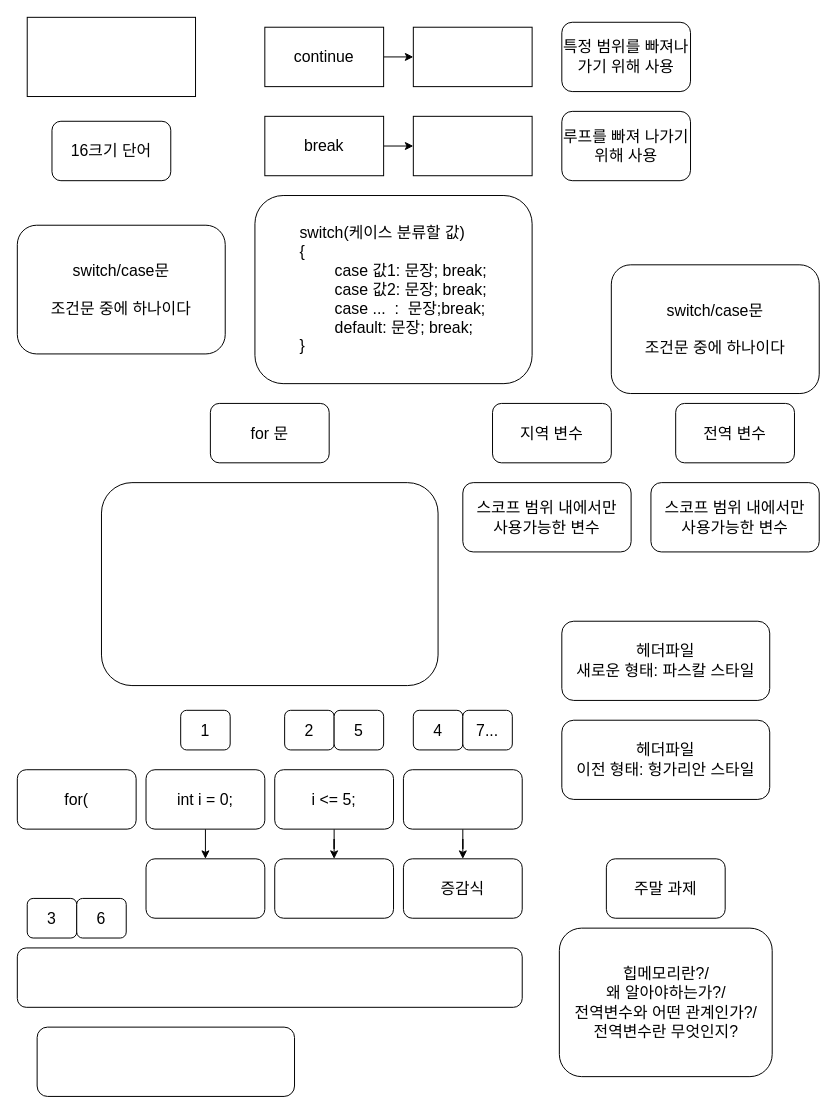
This 837x1114 diagram has some shape labels left out. Here are the shapes that lost their labels. From the top down, the centre of each, then its label:
[111,56]: 모든 루프는 빠져나갈 수 있다
[472,56]: 한번 pass
[472,145]: 루프 종료
[269,584]: for(int i = 0; i <= 5; i ++) { // Loop scope 안에서 // 반복할문장들 } 반복문 중에 하나이다
[462,799]: i += 1)
[205,888]: 초기값
[334,888]: 조건식
[269,977]: { //반복할 내용 }
[165,1061]: 초기 값을 포문 밖에서 지정해주면 초기 값 자리가 비어도 사용가능
